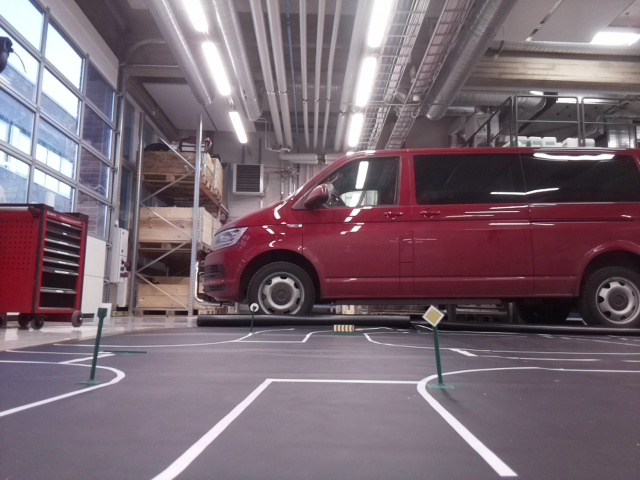Priority: (421, 304, 443, 325)
